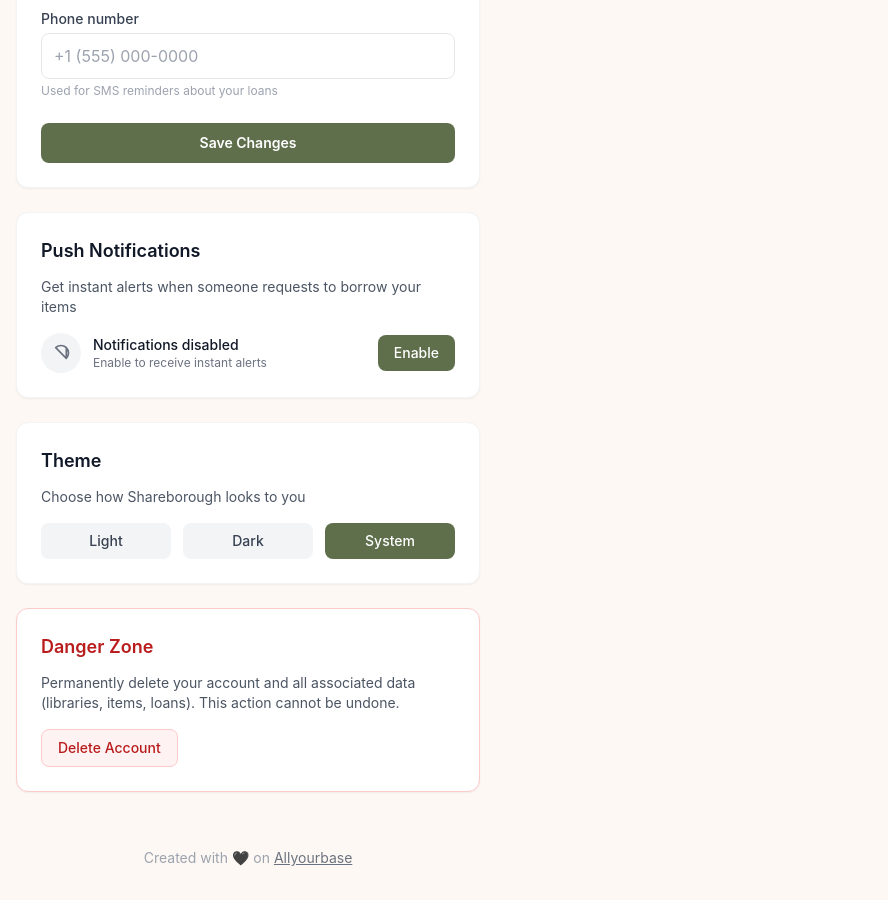
Test: Settings › shows error toast on delete failure
(page scrolled)
Expected: the heading "Danger Zone" is shown, [41, 636, 153, 657]
Click the button "Delete Account" at (109, 748), box [41, 729, 178, 767]
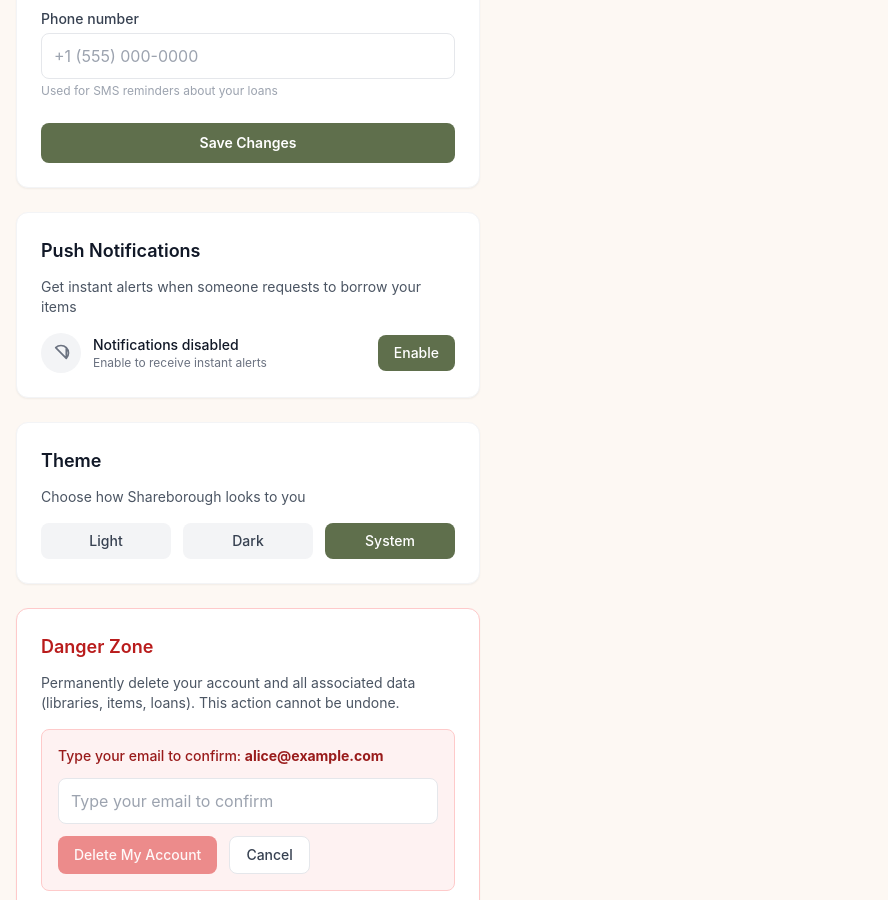
Type "alice@example.com" into the field named "Confirm email for deletion" at (248, 801), box [58, 778, 438, 824]
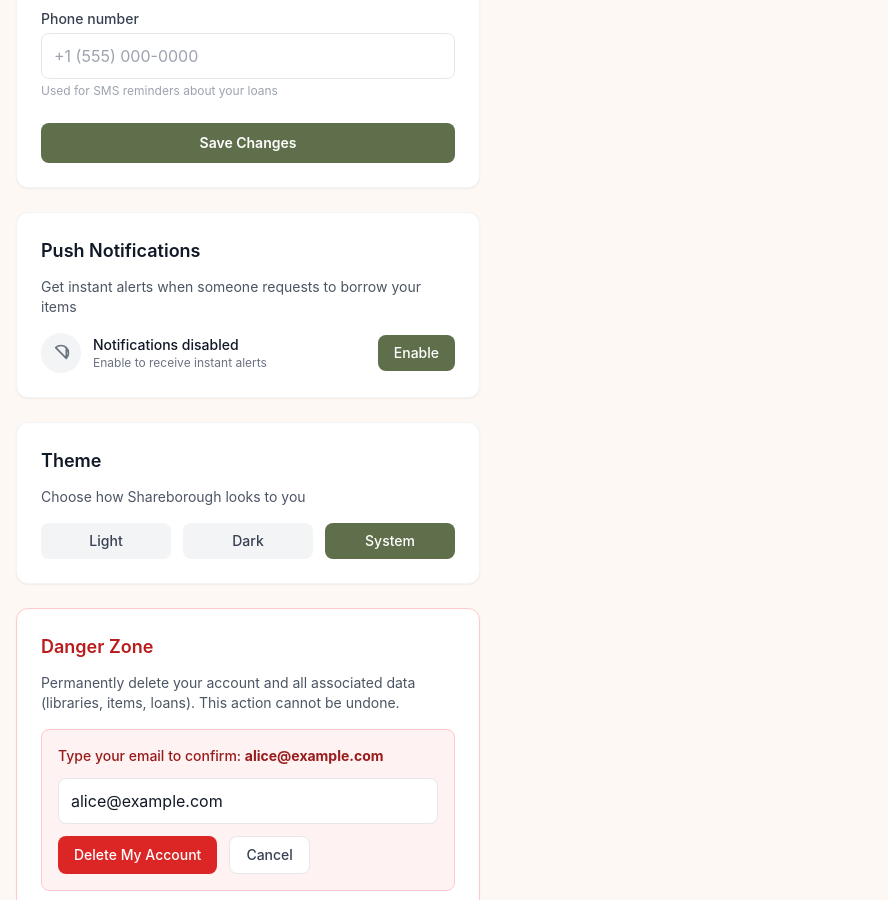
Click the button "Delete My Account" at (138, 855), box [58, 836, 217, 874]
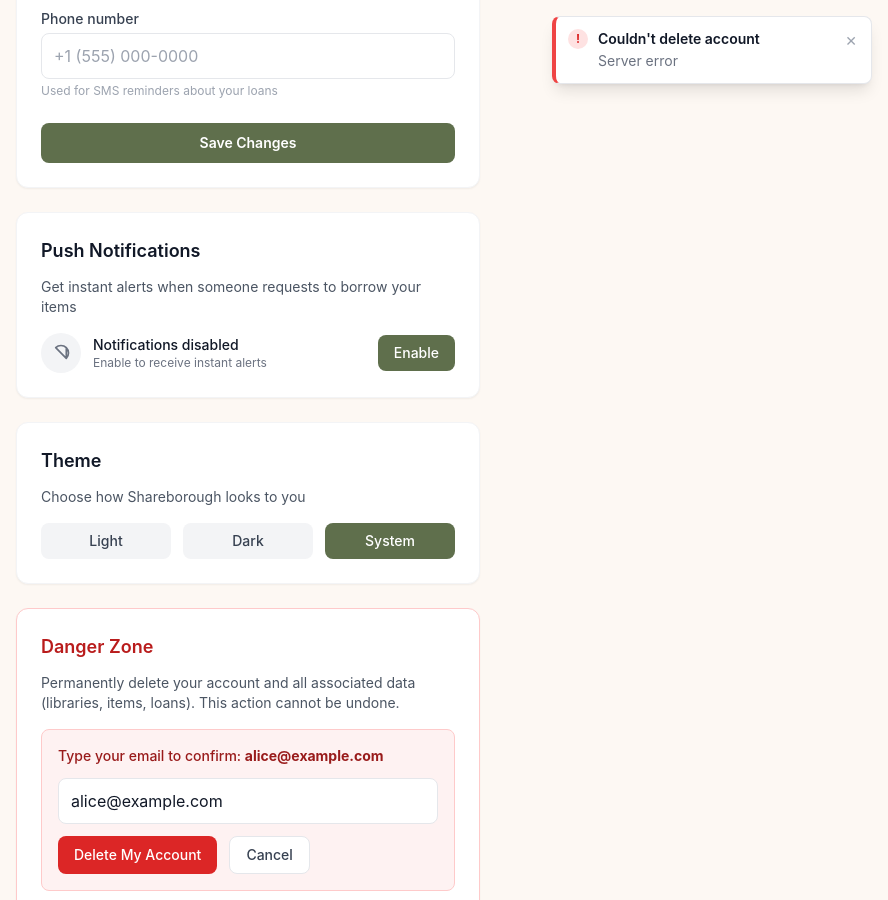
Expected: the text "Couldn't delete account" is shown, [598, 30, 760, 47]
